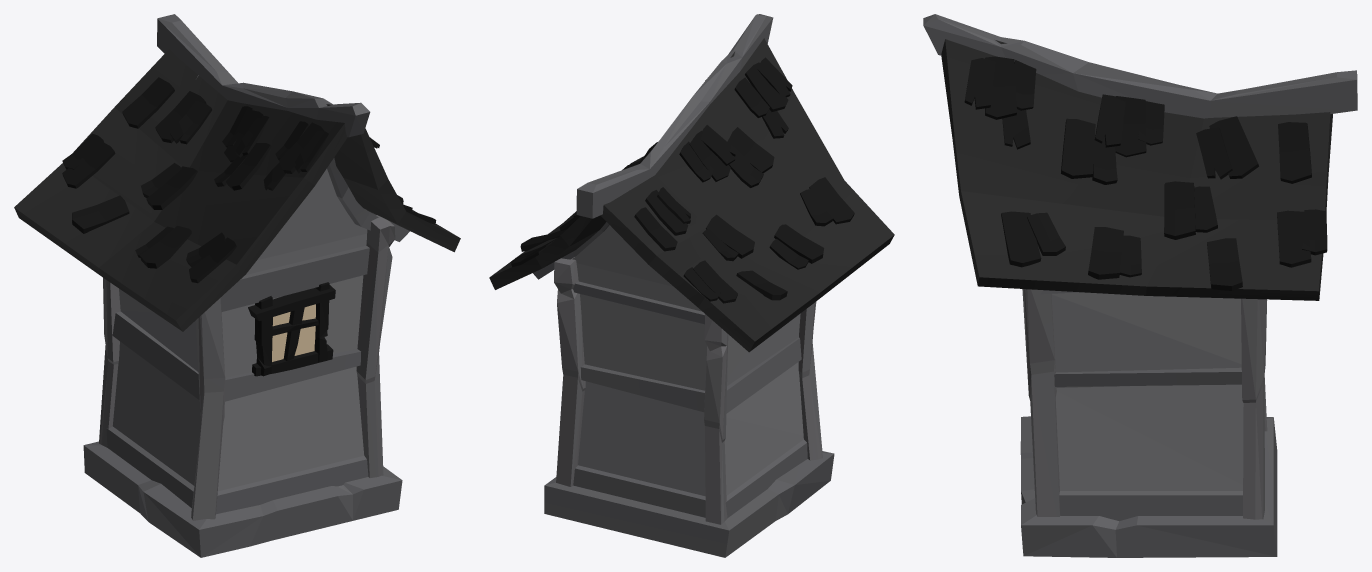
File: WF_LP_HT_Build_HouseRoom.005.3.fbx
3 renders of one model, left to right at view 1: azimuth 30°, elevation 25°; view 2: azimuth 150°, elevation 25°; view 3: azimuth 270°, elevation 25°, orthographic. The views are drawn at different scales.
Visible parts, largest first — view 1: WF_LP_HT_Build_HouseRoom.005.3; view 2: WF_LP_HT_Build_HouseRoom.005.3; view 3: WF_LP_HT_Build_HouseRoom.005.3.
Part boxes in pixels (x1,y1,x2,y2): WF_LP_HT_Build_HouseRoom.005.3: [14, 14, 460, 557]; WF_LP_HT_Build_HouseRoom.005.3: [489, 14, 894, 557]; WF_LP_HT_Build_HouseRoom.005.3: [923, 14, 1357, 557].
Bounding box in the file's own units: 4.39 × 6.41 × 5.08.
